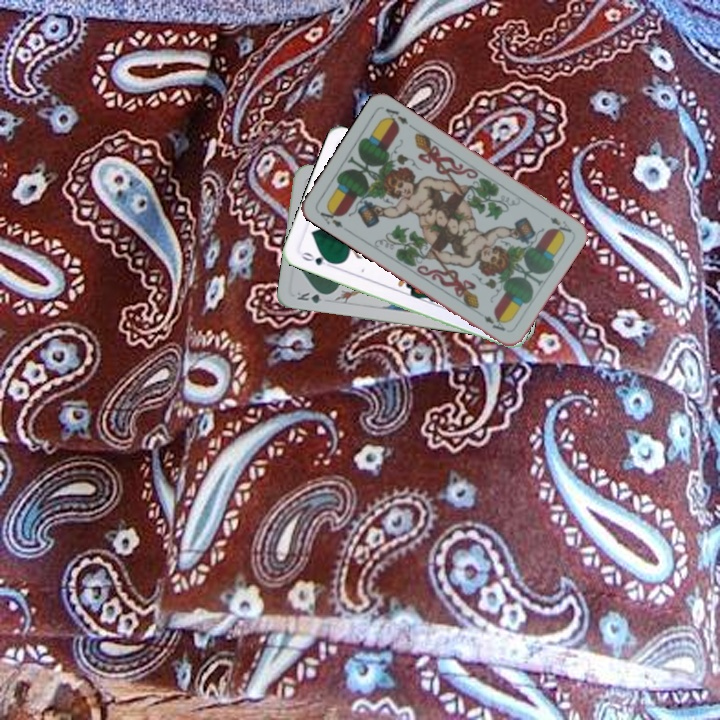EA: (314, 203, 346, 231), (546, 213, 574, 236)
GK: (291, 288, 332, 306)
GO: (297, 248, 336, 268)
